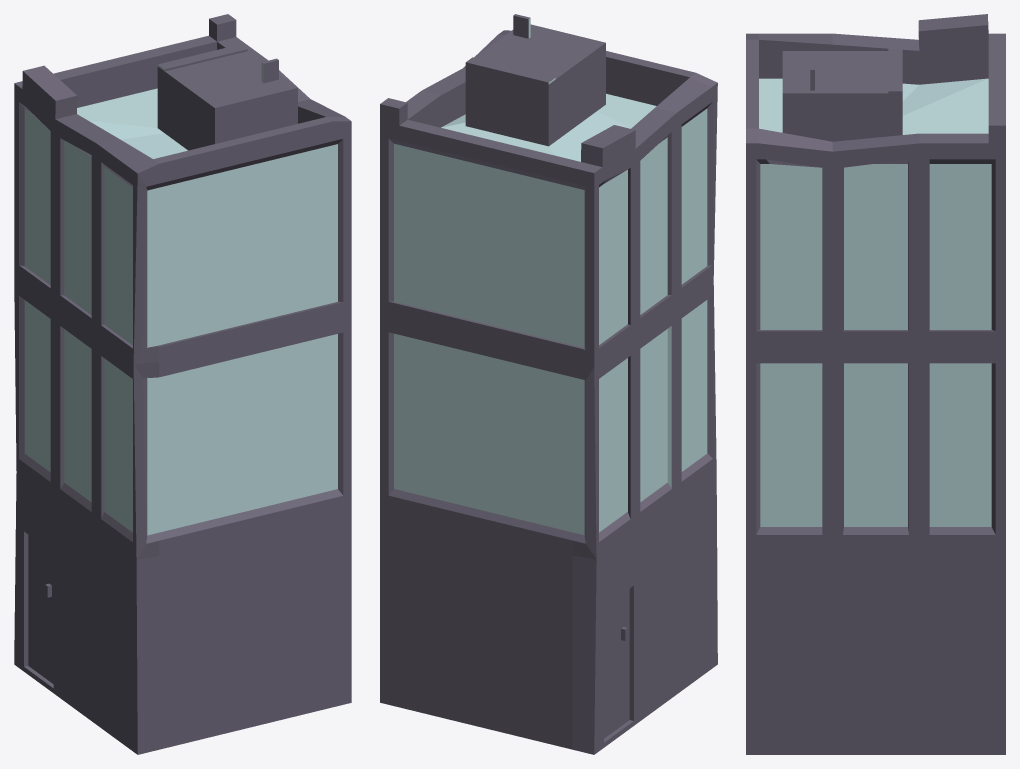
The model's file is skyscraper3 1.fbx.
3 views of the same model, side by side, from view 1: azimuth 30°, elevation 25°; view 2: azimuth 150°, elevation 25°; view 3: azimuth 270°, elevation 25° (orthographic). The views are drawn at different scales.
Visible parts, largest first — view 1: Building_1.002; view 2: Building_1.002; view 3: Building_1.002.
Part boxes in pixels (bbox=[...]): Building_1.002: bbox=[14, 14, 351, 754]; Building_1.002: bbox=[380, 14, 717, 754]; Building_1.002: bbox=[746, 14, 1005, 754].
Size of the model in its own units: 200 by 563 by 200.
